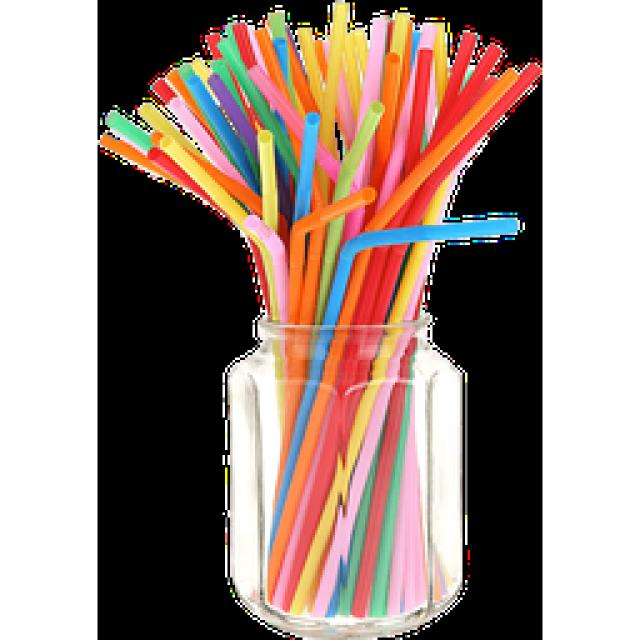plastic: (98, 0, 540, 628)
